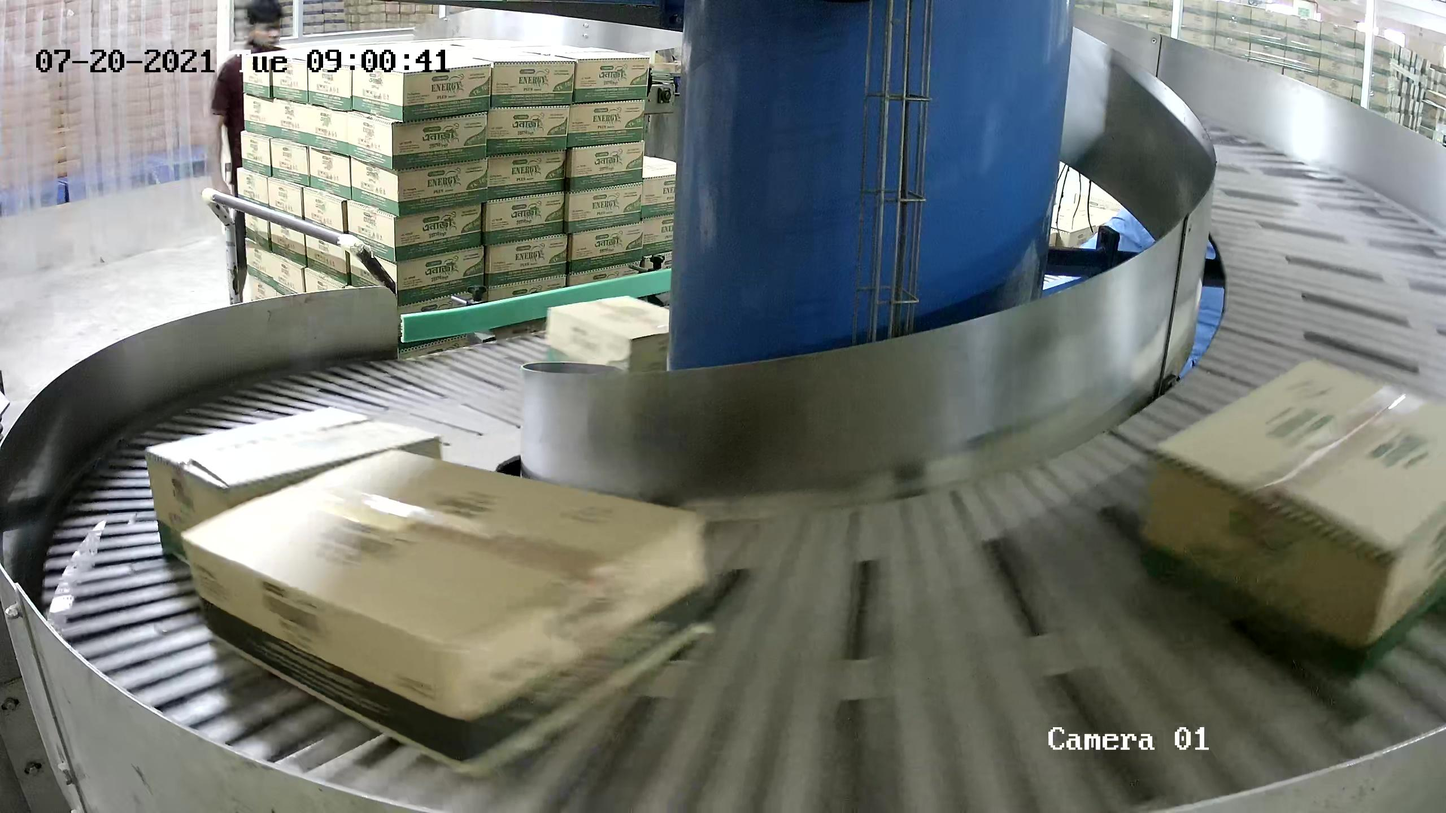Box: (172, 447, 719, 782), (1137, 353, 1446, 683), (142, 406, 449, 576), (542, 291, 704, 387)
